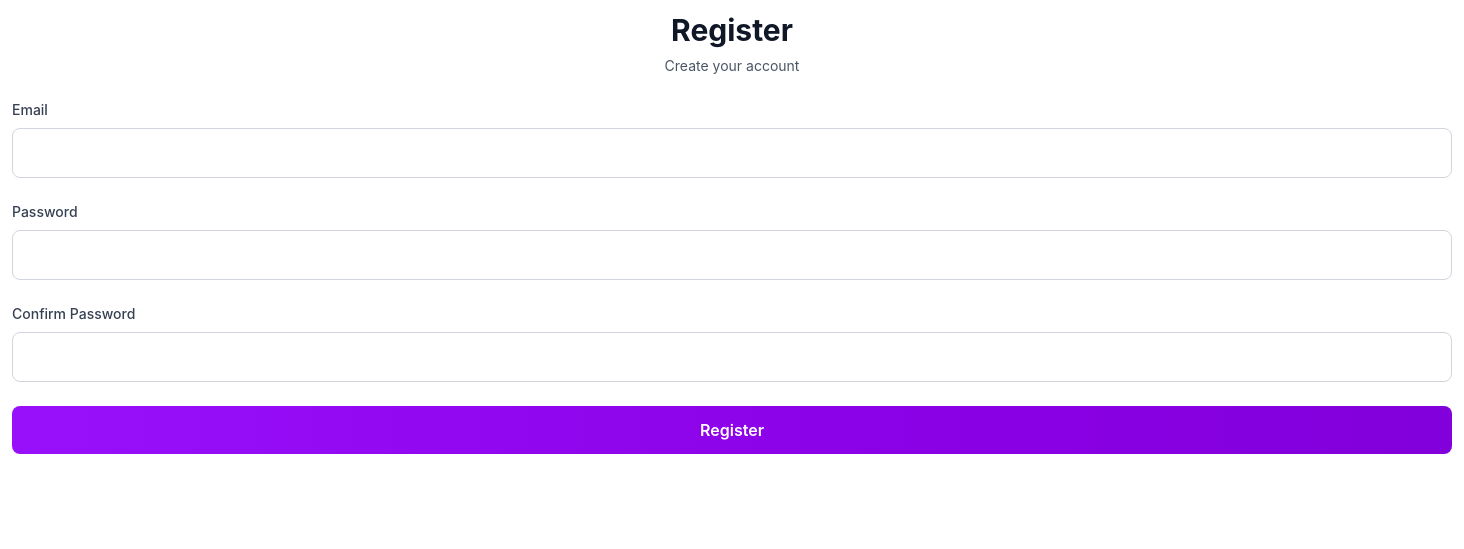
it: RegisterForm › shows error when passwords do not match
Expected: the button "Register" is shown, [12,406,1452,454]
Type "new@example.com" into the field labelled "Email".
click(732, 153); type("new@example.com")  # box [12,128,1452,178]
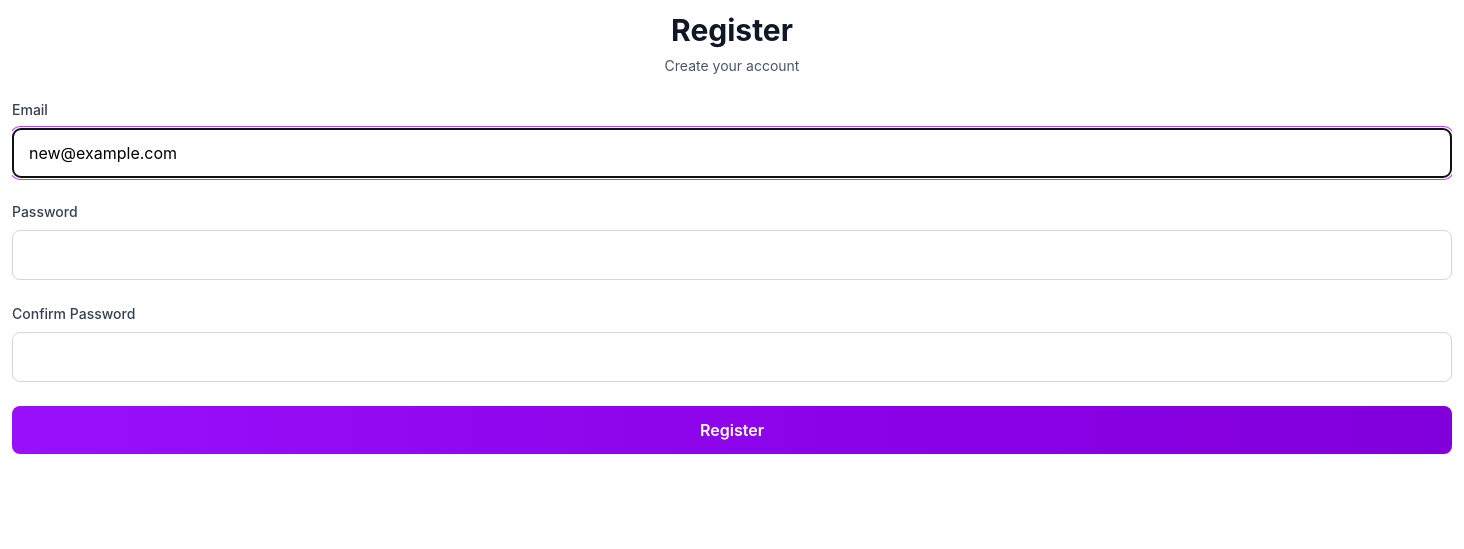
Type "password123" into the password field labelled "Password".
click(732, 255); type("password123")  # box [12,230,1452,280]
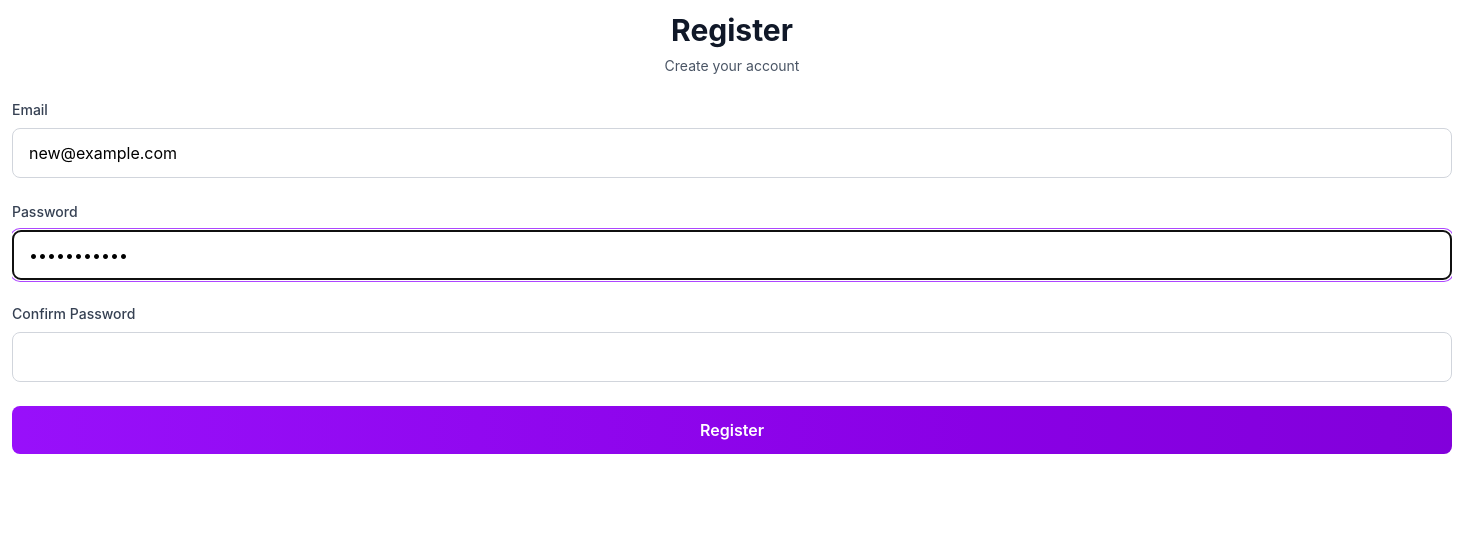
Type "different" into the password field labelled "Confirm Password".
click(732, 357); type("different")  # box [12,332,1452,382]
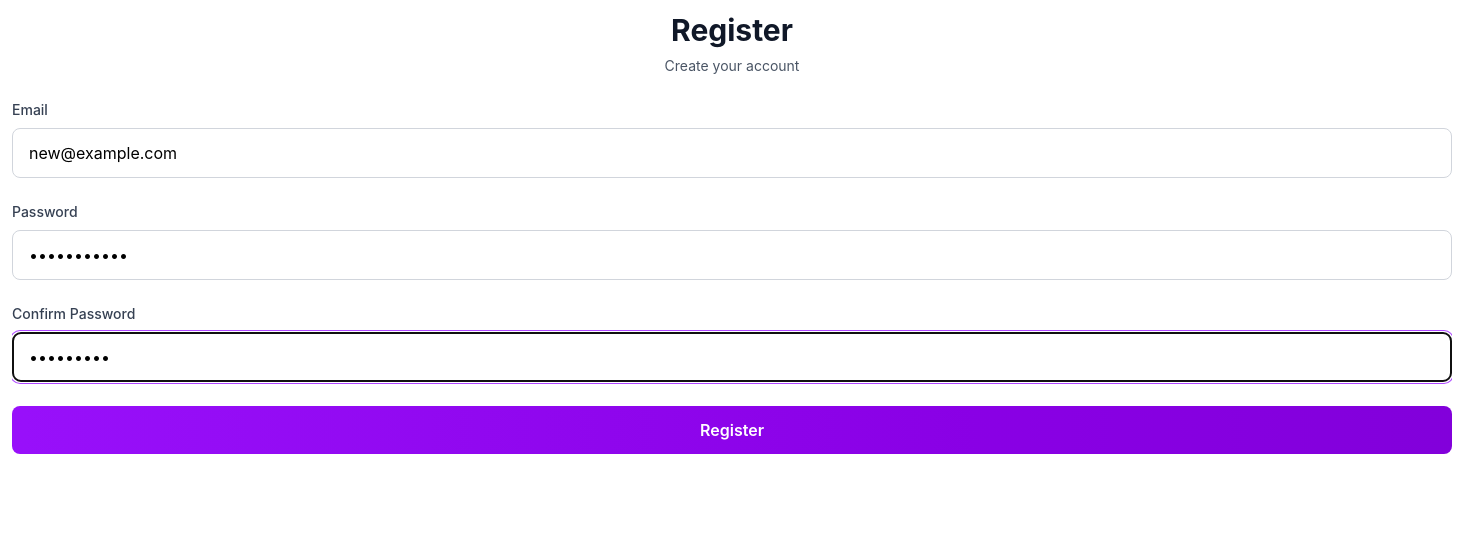
Click the button "Register".
click(732, 430)  # box [12,406,1452,454]
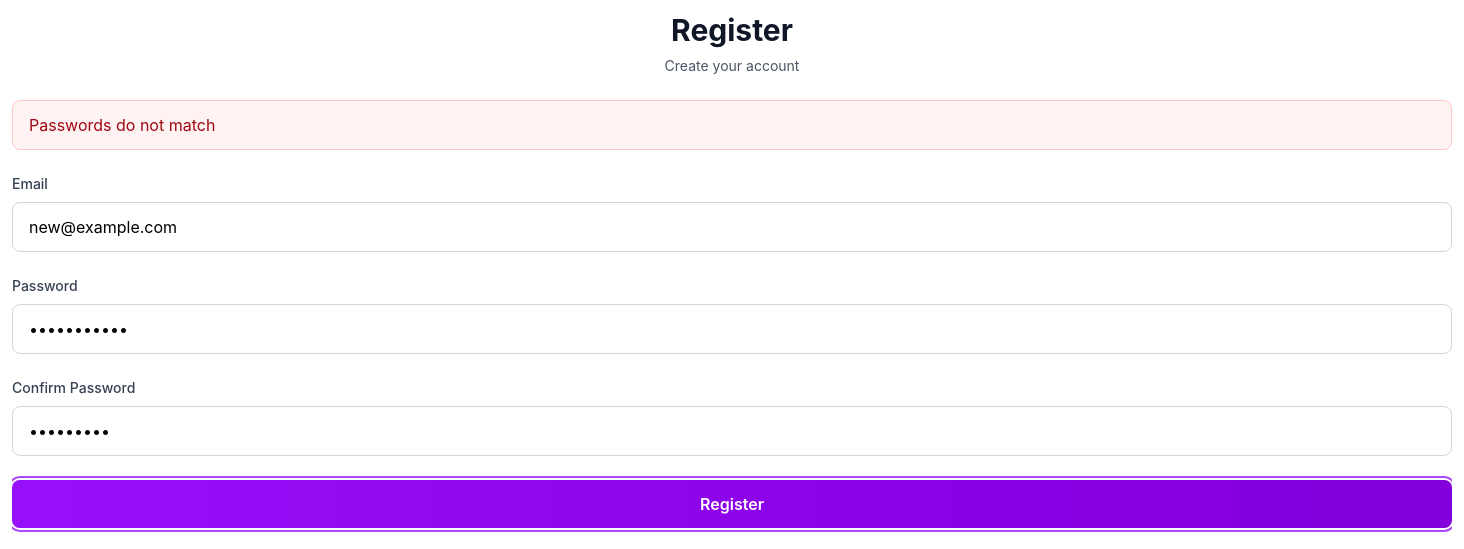
Now the message reads "Passwords do not match", box [29,115,215,135]
